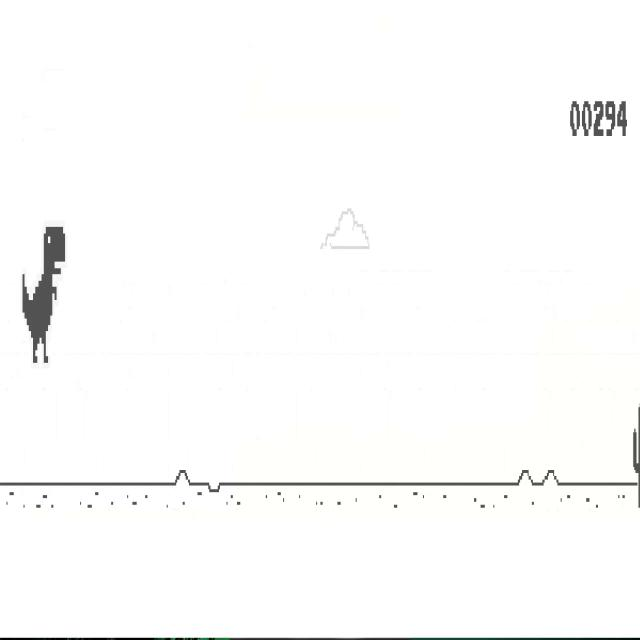cacto: (632, 403, 640, 509)
dino: (22, 225, 66, 364)
